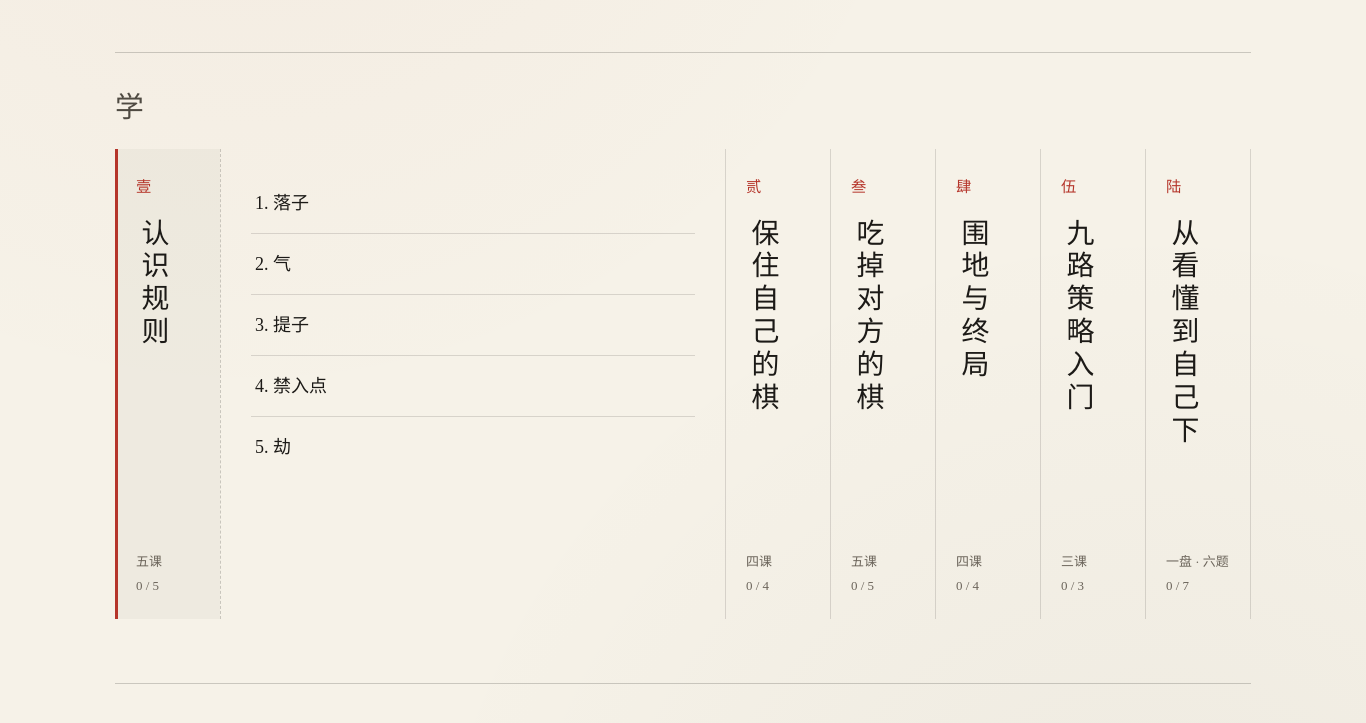
it: 生存章节界面 › 卷叁展开后可以连续切课，点红色卷名才收起
The image size is (1366, 723).
Later steps or results of the test are not shown.
(page scrolled)
Step 1. Click the button "叁 吃掉对方的棋 五课 0 / 5" → (883, 384), box [831,149,935,619]
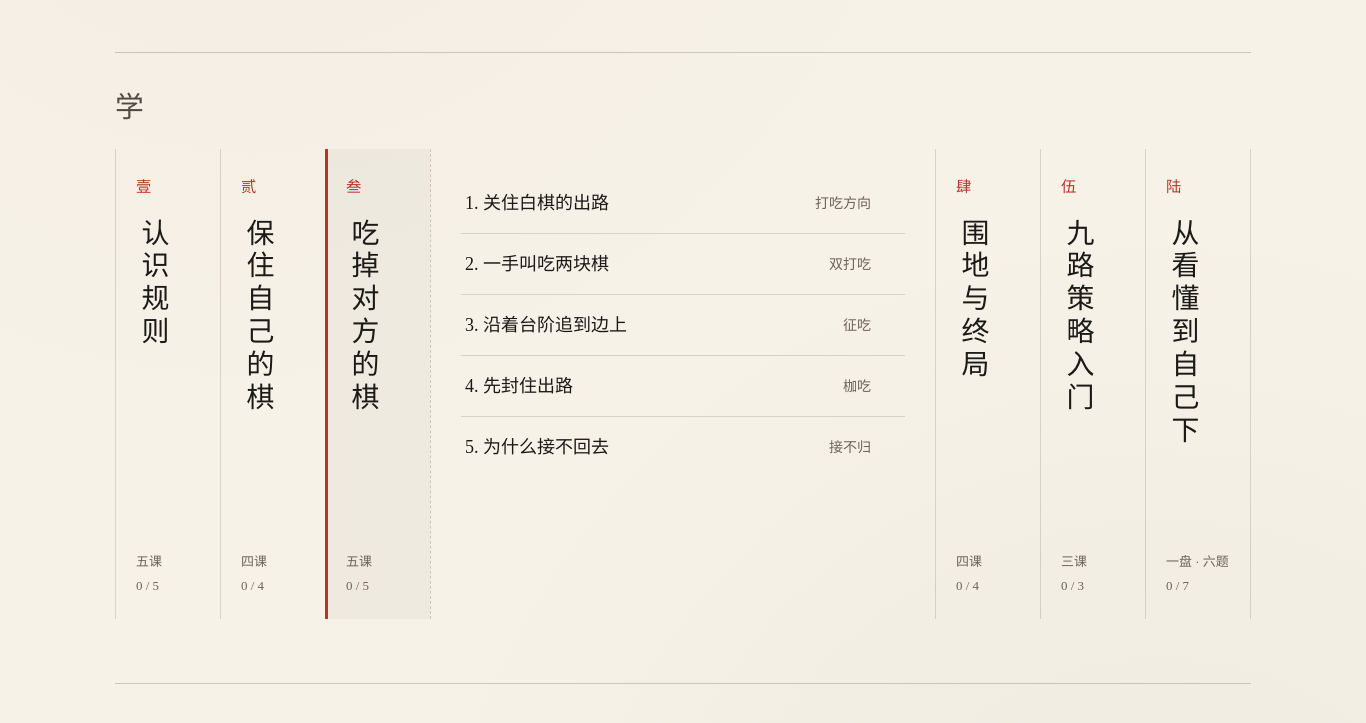
Step 2. Click the button with aria-label "2. 一手叫吃两块棋（双打吃）" → (537, 264), box [461,242,905,286]
(page scrolled)
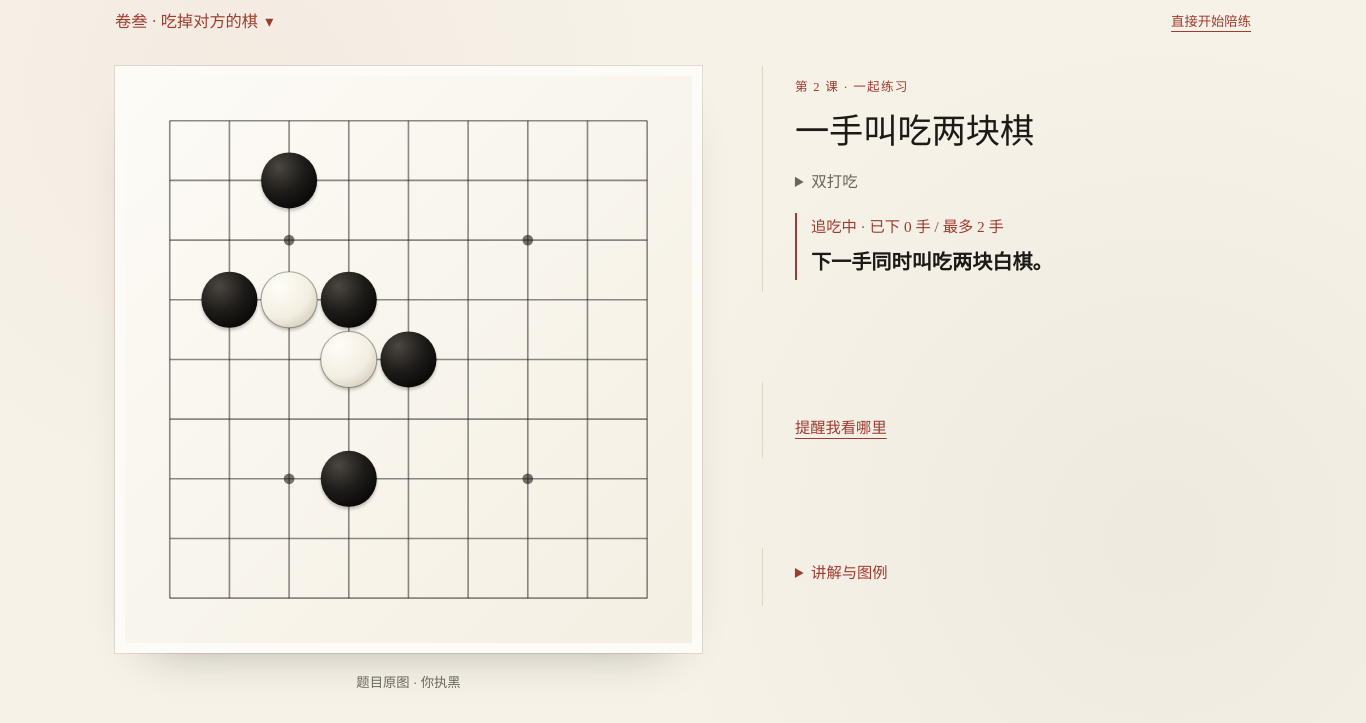
Step 3. Click the heading "卷叁 · 吃掉对方的棋 ▾" → (194, 22), box [115,13,273,31]
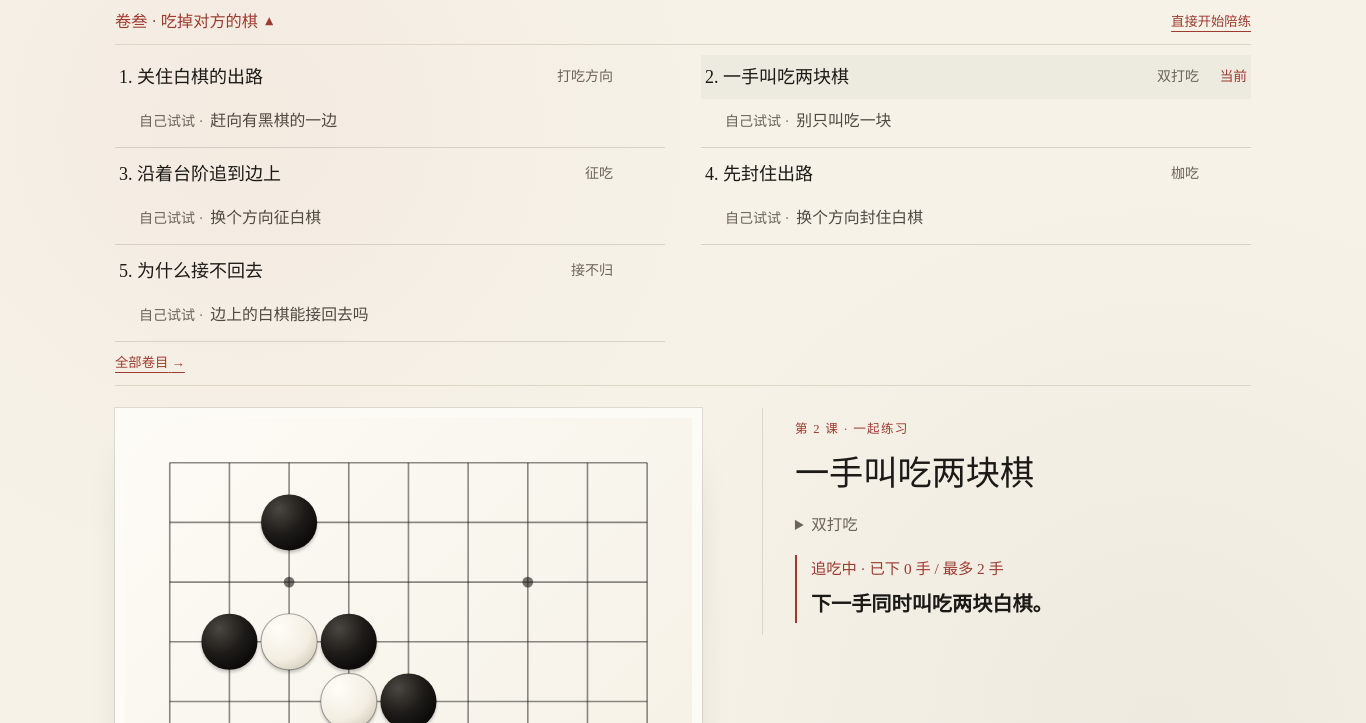
Step 4. Click the button with aria-label "3. 沿着台阶追到边上（征吃）" → (200, 174), box [115,152,665,196]
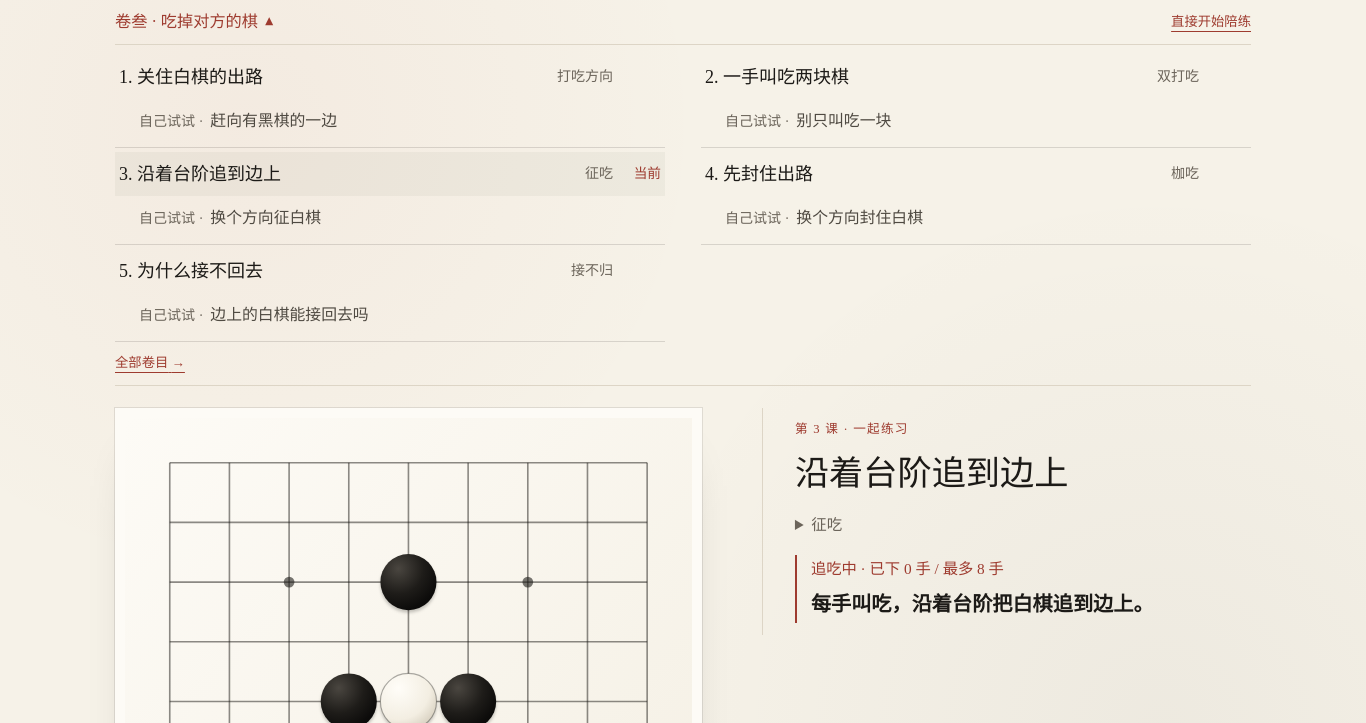
Now the text "3. 沿着台阶追到边上" is shown, box [119,164,281,184]
Now the text with class "course-index__term" reads "征吃", box [585,166,613,182]
Step 5. Click the button with aria-label "4. 先封住出路（枷吃）" → (759, 174), box [701,152,1251,196]
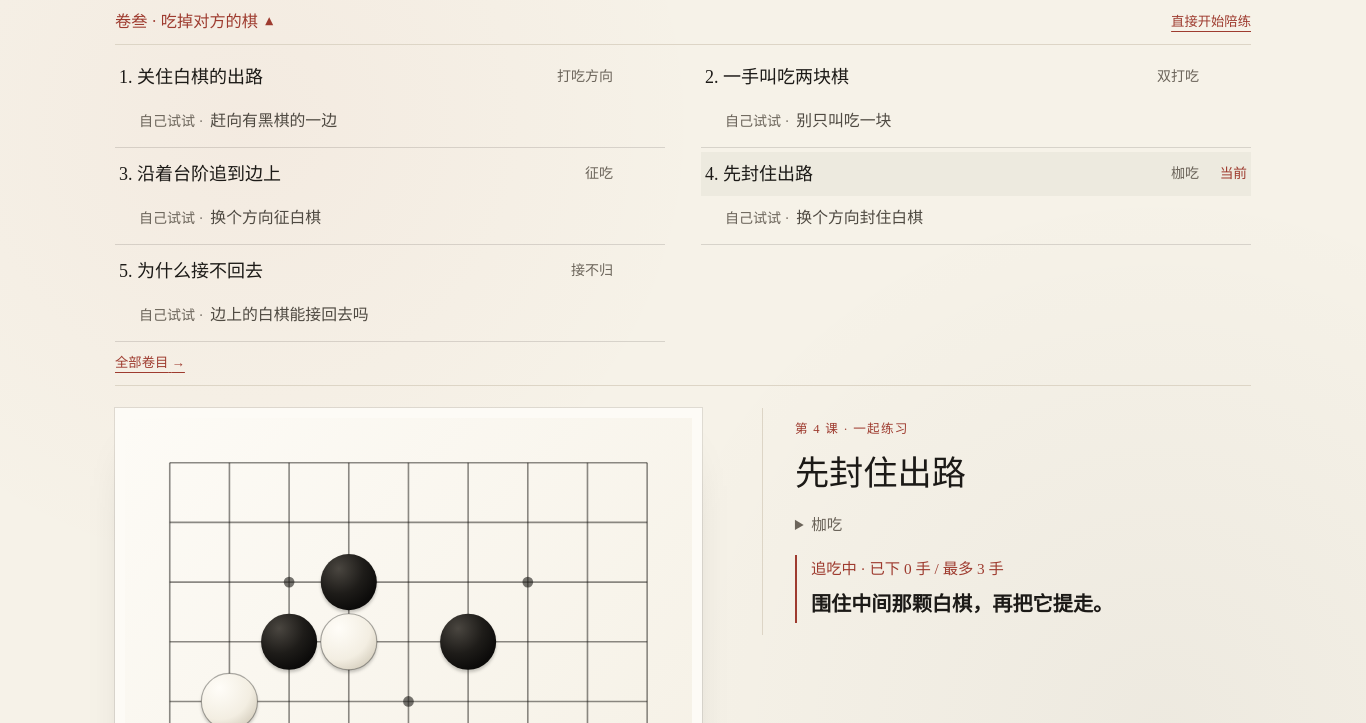
Now the heading "枷吃" is shown
Step 6. Click the heading "枷吃" → (827, 524), box [811,516,842,532]
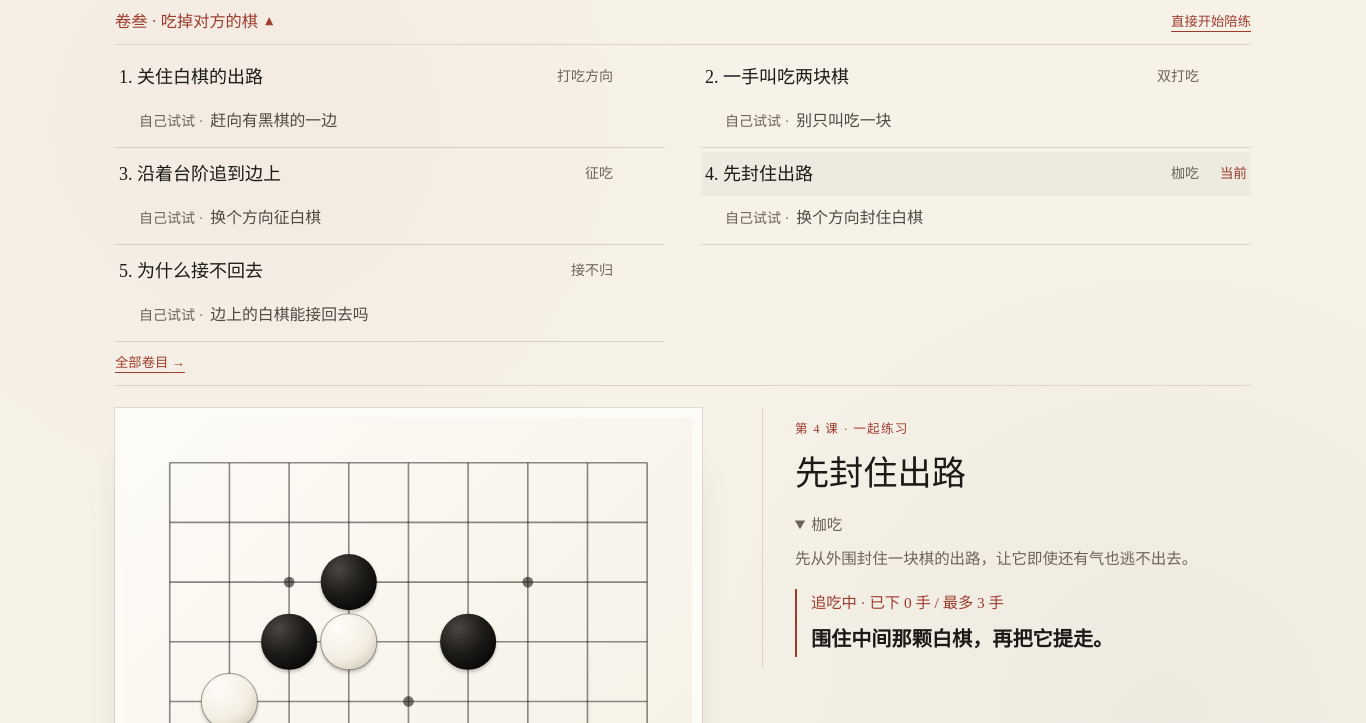
Now the element showing "枷吃 先从外围封住一块棋的出路，让它即使还有气也逃不出去。" is shown, box [795,510,1251,573]
